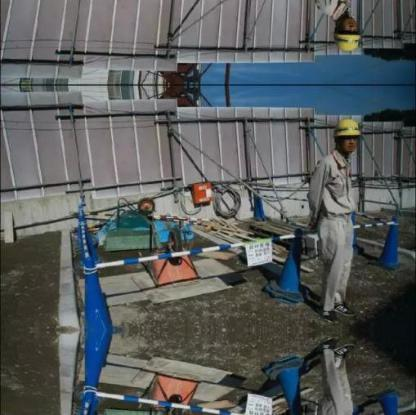helmet: (325, 111, 366, 146)
